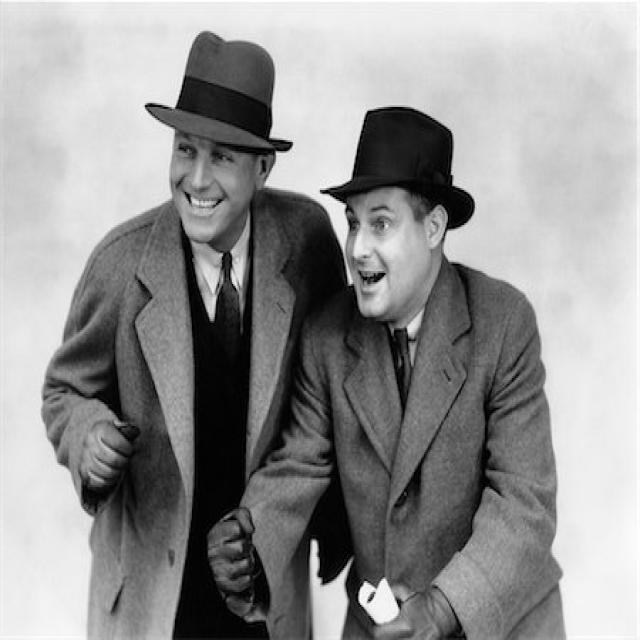hat: (321, 104, 475, 318), (145, 30, 294, 242)
